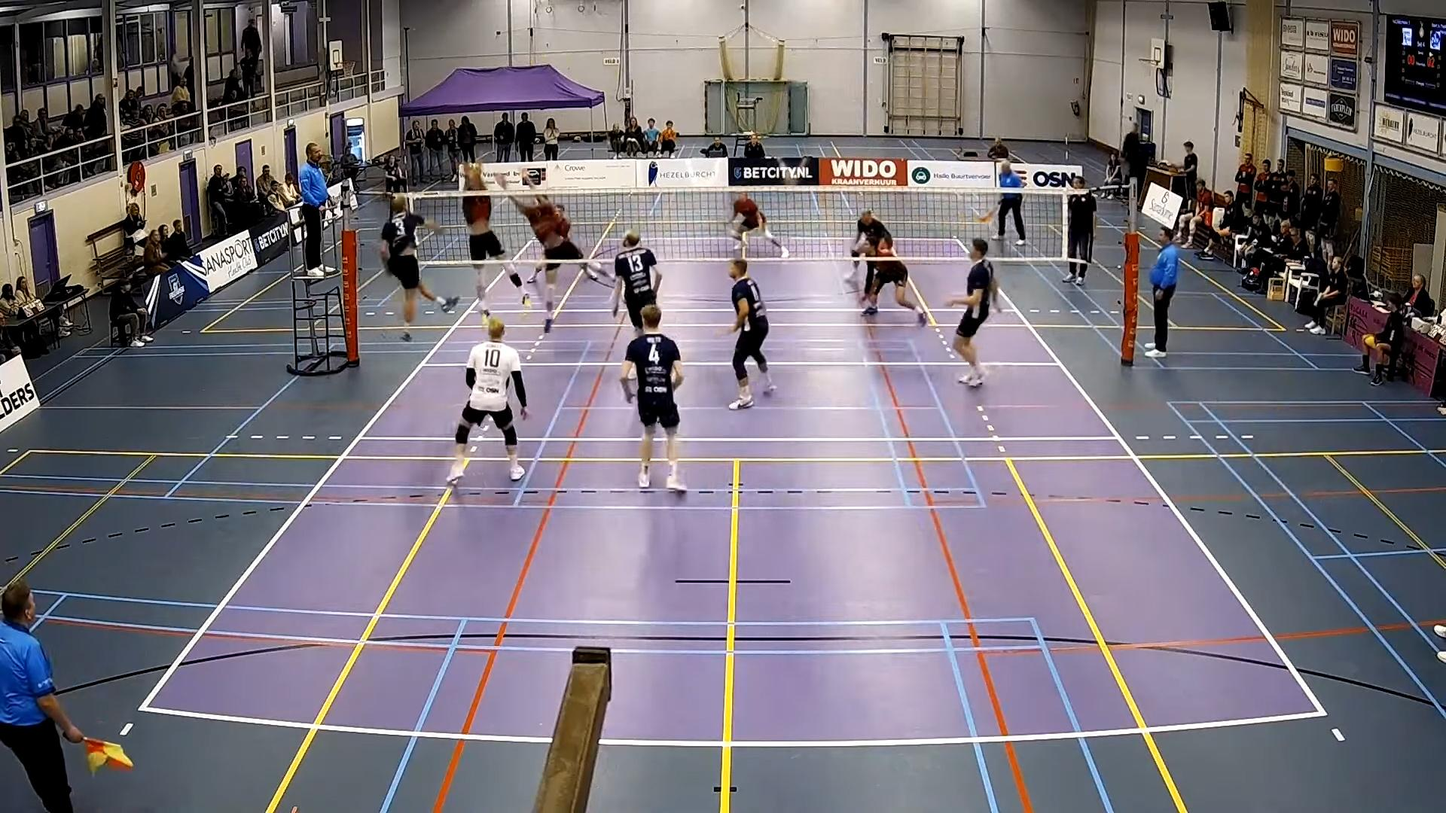attacco: (374, 188, 475, 330)
muro: (497, 159, 622, 338), (457, 152, 535, 337)
